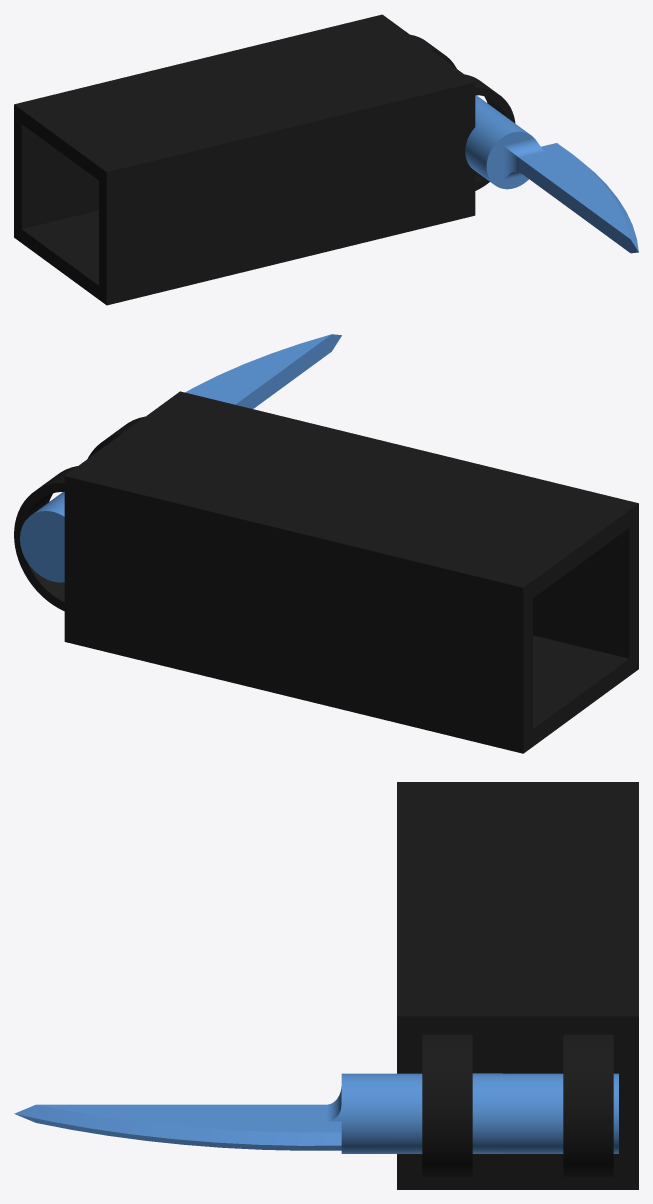
The model's file is ArmStab.fbx.
The picture shows the model from 3 angles, top to bottom: view 1: azimuth 30°, elevation 25°; view 2: azimuth 150°, elevation 25°; view 3: azimuth 270°, elevation 25°; orthographic projection. The views are drawn at different scales.
Visible parts, largest first — view 1: Body1, Body4, Body2; view 2: Body1, Body4, Body3; view 3: Body1, Body4, Body2, Body3.
Boxes of the visible parts, x1=… form: Body1: x1=14, y1=14, x2=475, y2=305; Body4: x1=465, y1=95, x2=638, y2=253; Body2: x1=464, y1=74, x2=515, y2=190; Body1: x1=64, y1=391, x2=638, y2=753; Body4: x1=20, y1=334, x2=341, y2=582; Body3: x1=14, y1=466, x2=77, y2=611; Body1: x1=397, y1=782, x2=638, y2=1189; Body4: x1=14, y1=1073, x2=618, y2=1153; Body2: x1=422, y1=1034, x2=472, y2=1178; Body3: x1=563, y1=1034, x2=613, y2=1178.
Size of the model in its own units: 650 by 190 by 620.
